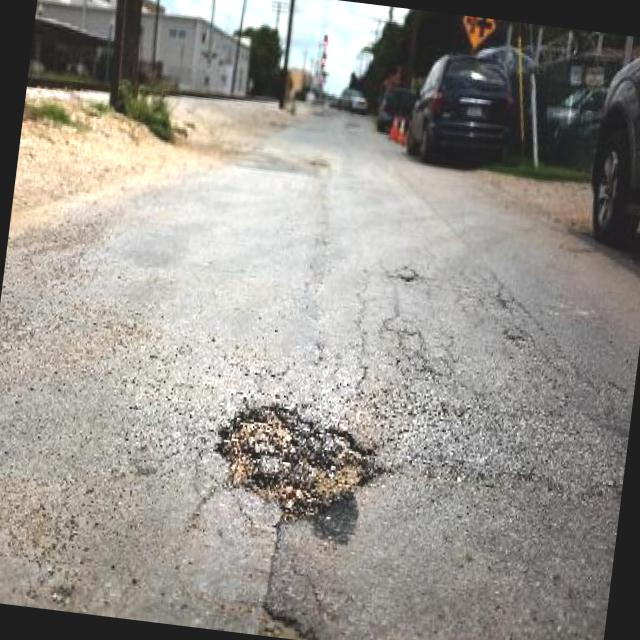pothole: (207, 396, 385, 526), (255, 596, 322, 640)
